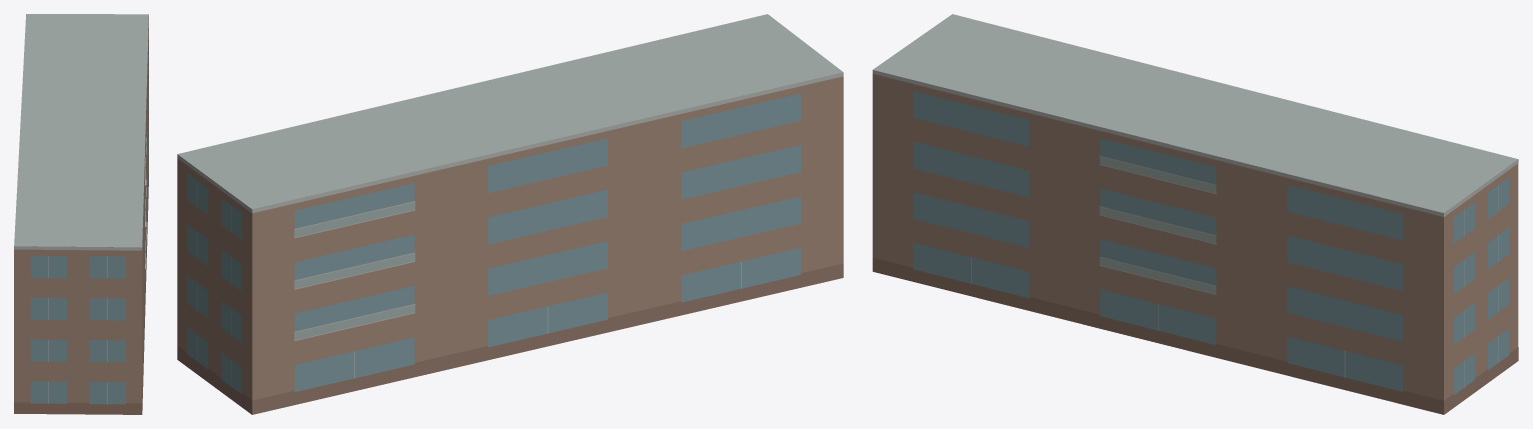
The model's file is survey-upis-32905777.glb.
The picture shows the model from 3 angles, left to right: view 1: azimuth 30°, elevation 25°; view 2: azimuth 150°, elevation 25°; view 3: azimuth 270°, elevation 25°; orthographic projection. The views are drawn at different scales.
Visible parts, largest first — view 1: survey-upis-32905777.tmp; view 2: survey-upis-32905777.tmp; view 3: survey-upis-32905777.tmp.
Boxes of the visible parts, left/top/right/bottom form: survey-upis-32905777.tmp: left=14, top=14, right=148, bottom=414; survey-upis-32905777.tmp: left=177, top=14, right=843, bottom=414; survey-upis-32905777.tmp: left=872, top=14, right=1518, bottom=414.
Size of the model in its own units: 26.26 by 12.4 by 35.98.
